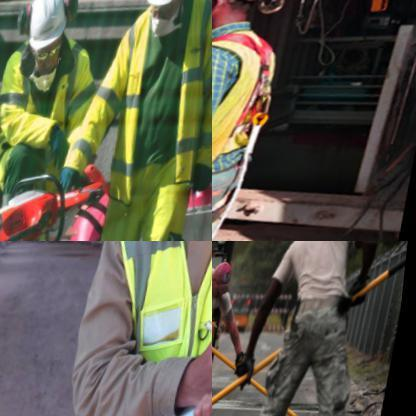vest: (80, 5, 211, 228), (95, 241, 211, 376), (212, 20, 295, 201), (0, 46, 98, 193)
